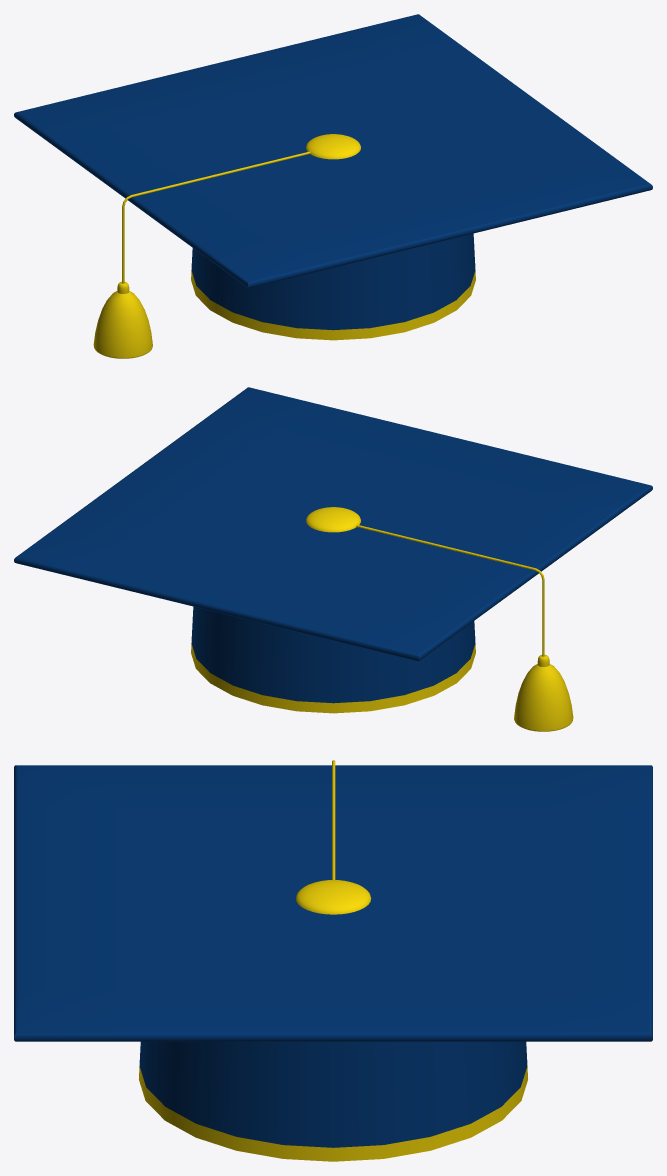
Rendered from Toque.fbx.
The picture shows the model from 3 angles, top to bottom: view 1: azimuth 30°, elevation 25°; view 2: azimuth 150°, elevation 25°; view 3: azimuth 270°, elevation 25°; orthographic projection. The views are drawn at different scales.
Visible parts, largest first — view 1: Cube, Sphere.001, Sphere, Ata; view 2: Cube, Sphere.001, Sphere, Ata; view 3: Cube, Sphere.
Part boxes in pixels (x1=…): Cube: x1=14, y1=14, x2=652, y2=340; Sphere.001: x1=93, y1=281, x2=152, y2=358; Sphere: x1=306, y1=134, x2=360, y2=159; Ata: x1=122, y1=151, x2=310, y2=283; Cube: x1=14, y1=387, x2=652, y2=713; Sphere.001: x1=514, y1=654, x2=573, y2=731; Sphere: x1=306, y1=507, x2=360, y2=532; Ata: x1=356, y1=524, x2=544, y2=656; Cube: x1=14, y1=765, x2=652, y2=1161; Sphere: x1=295, y1=880, x2=371, y2=914.
Bounding box in the file's own units: 79.59 × 26.85 × 73.55.
